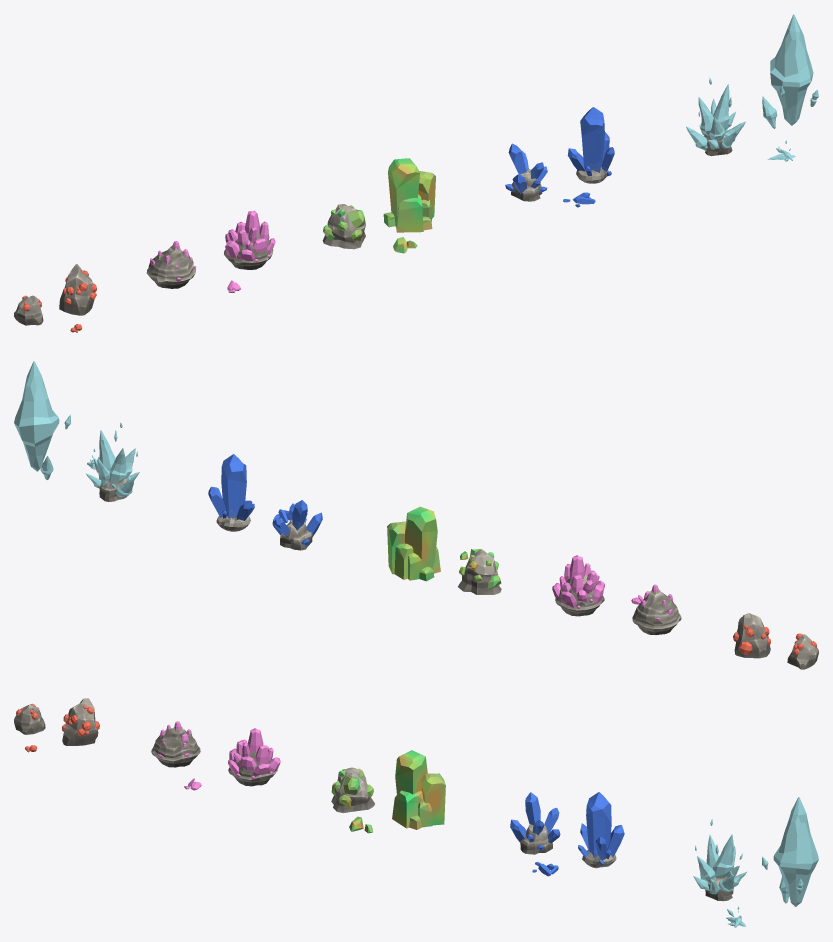
Rendered from ore.glb.
3 renders of one model, top to bottom at view 1: azimuth 30°, elevation 25°; view 2: azimuth 150°, elevation 25°; view 3: azimuth 330°, elevation 25°, orthographic.
Visible parts, largest first — view 1: Object_14, Object_15, Object_4, Object_16, Object_8, Object_7, Object_10, Object_9, Object_6, Object_3; view 2: Object_14, Object_4, Object_15, Object_16, Object_8, Object_10, Object_7, Object_9, Object_6, Object_11; view 3: Object_14, Object_15, Object_4, Object_16, Object_8, Object_7, Object_10, Object_6, Object_9, Object_3, Object_11, Object_17.
Boxes of the visible parts, bbox=[...] form: Object_14: bbox=[686, 14, 818, 161]; Object_15: bbox=[505, 107, 614, 207]; Object_4: bbox=[383, 158, 435, 232]; Object_16: bbox=[150, 210, 275, 292]; Object_8: bbox=[146, 245, 195, 288]; Object_7: bbox=[59, 264, 94, 315]; Object_10: bbox=[322, 204, 365, 249]; Object_9: bbox=[224, 232, 273, 269]; Object_6: bbox=[14, 295, 43, 325]; Object_3: bbox=[323, 204, 364, 240]; Object_14: bbox=[14, 361, 139, 497]; Object_4: bbox=[387, 506, 440, 581]; Object_15: bbox=[208, 454, 322, 545]; Object_16: bbox=[552, 555, 672, 621]; Object_8: bbox=[632, 589, 681, 634]; Object_10: bbox=[458, 549, 501, 594]; Object_7: bbox=[734, 613, 770, 658]; Object_9: bbox=[555, 574, 604, 616]; Object_6: bbox=[787, 634, 818, 669]; Object_11: bbox=[280, 520, 313, 550]; Object_14: bbox=[693, 797, 818, 927]; Object_15: bbox=[510, 792, 624, 876]; Object_4: bbox=[392, 750, 445, 829]; Object_16: bbox=[158, 721, 280, 790]; Object_8: bbox=[151, 726, 200, 767]; Object_7: bbox=[62, 698, 98, 745]; Object_10: bbox=[331, 767, 374, 813]; Object_6: bbox=[14, 704, 45, 734]; Object_9: bbox=[228, 752, 277, 786]; Object_3: bbox=[331, 768, 373, 807]; Object_11: bbox=[520, 824, 552, 854]; Object_17: bbox=[16, 703, 99, 752].
Bounding box in the file's own units: 12.91 × 1.82 × 1.32.
Materials: 15 (11 with a texture image).
